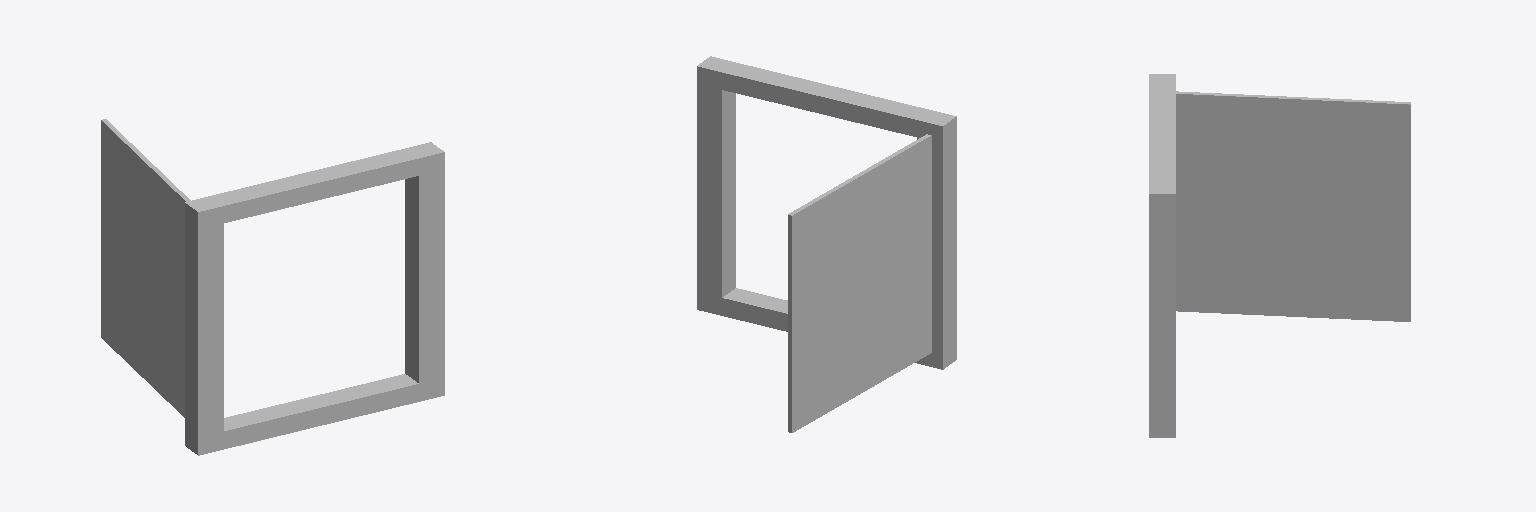
Rendered from doorOpen.obj.
3 renders of one model, left to right at view 1: azimuth 30°, elevation 25°; view 2: azimuth 150°, elevation 25°; view 3: azimuth 270°, elevation 25°, orthographic.
Size of the model in its own units: 25 by 23.61 by 23.03.